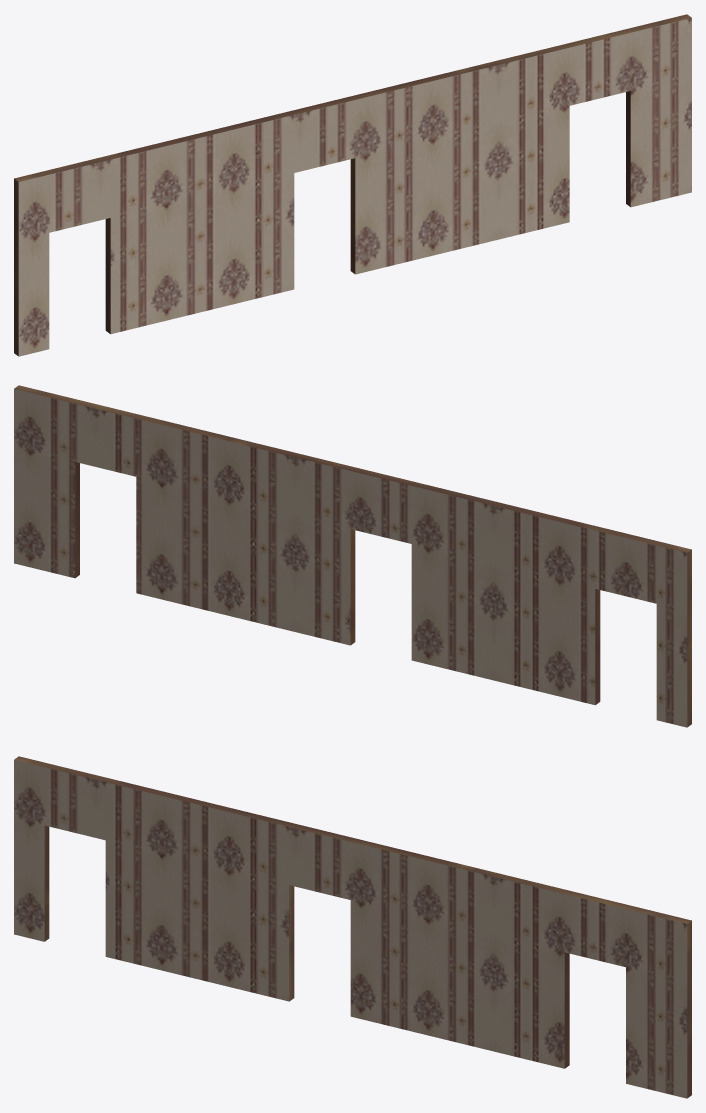
Rendered from wall5.dae.
3 renders of one model, top to bottom at view 1: azimuth 30°, elevation 25°; view 2: azimuth 150°, elevation 25°; view 3: azimuth 330°, elevation 25°, orthographic.
Parts seen in each view (by area): view 1: Plane.002; view 2: Plane.002; view 3: Plane.002.
Part boxes in pixels (bbox=[...]): Plane.002: bbox=[14, 14, 691, 356]; Plane.002: bbox=[14, 385, 691, 727]; Plane.002: bbox=[14, 756, 691, 1098].
Size of the model in its own units: 12.1 by 0.15 by 3.
Materials: 1 (1 with a texture image).
